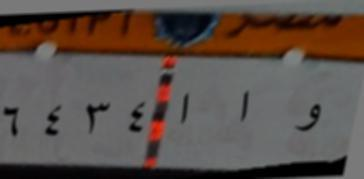3: (82, 97, 111, 140)
4: (40, 101, 66, 144), (125, 95, 148, 141)
6: (0, 97, 23, 143)
alif: (172, 90, 195, 134), (233, 82, 254, 127)
waw: (291, 97, 323, 140)
